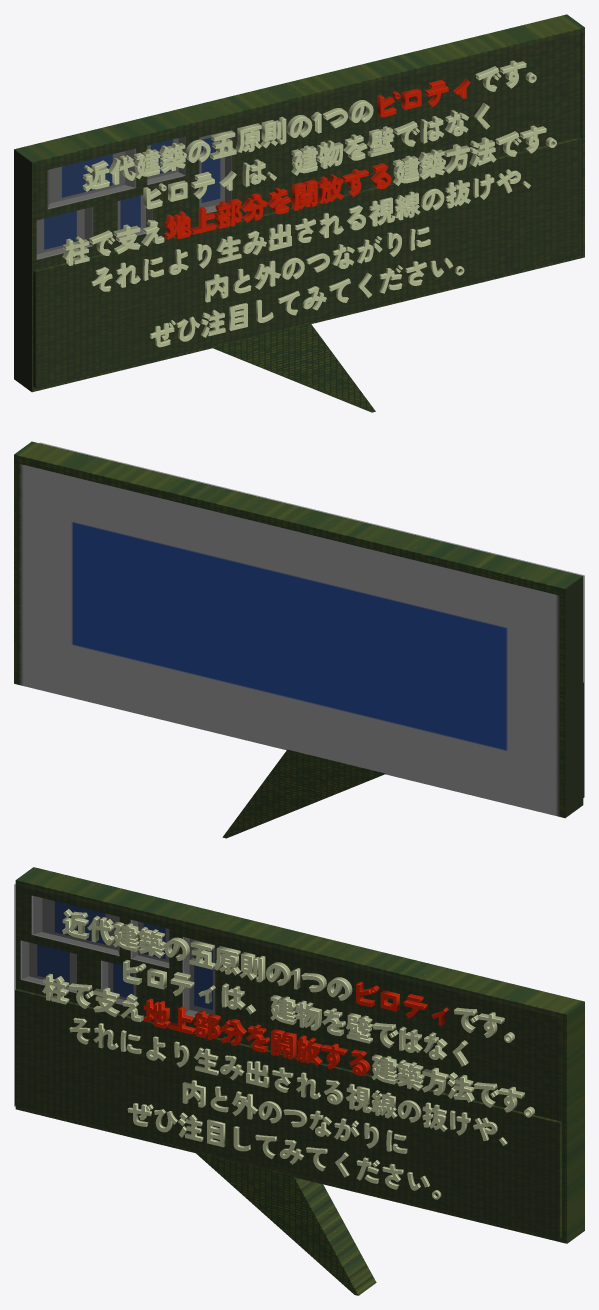
The model's file is cfukidasi-piroty.glb.
The picture shows the model from 3 angles, top to bottom: view 1: azimuth 30°, elevation 25°; view 2: azimuth 150°, elevation 25°; view 3: azimuth 330°, elevation 25°; orthographic projection.
Visible parts, largest first — view 1: 立方体.003, 立方体, 立方体.002, テキスト, 立方体.001; view 2: 立方体, 立方体.001, 立方体.003; view 3: 立方体.003, 立方体, 立方体.002, テキスト, 立方体.001.
Boxes of the visible parts, x1,y1,x2,y2 form: 立方体.003: [33, 31, 582, 388]; 立方体: [14, 14, 584, 392]; 立方体.002: [33, 137, 581, 387]; テキスト: [62, 60, 556, 347]; 立方体.001: [211, 323, 375, 412]; 立方体: [14, 441, 583, 818]; 立方体.001: [222, 749, 385, 838]; 立方体.003: [39, 442, 584, 797]; 立方体.003: [14, 883, 561, 1239]; 立方体: [15, 867, 584, 1243]; 立方体.002: [15, 989, 561, 1238]; テキスト: [42, 909, 534, 1199]; 立方体.001: [195, 1152, 376, 1295].
Bounding box in the file's own units: 11.12 × 6.4 × 0.7575.
6 materials, 3 textured.
